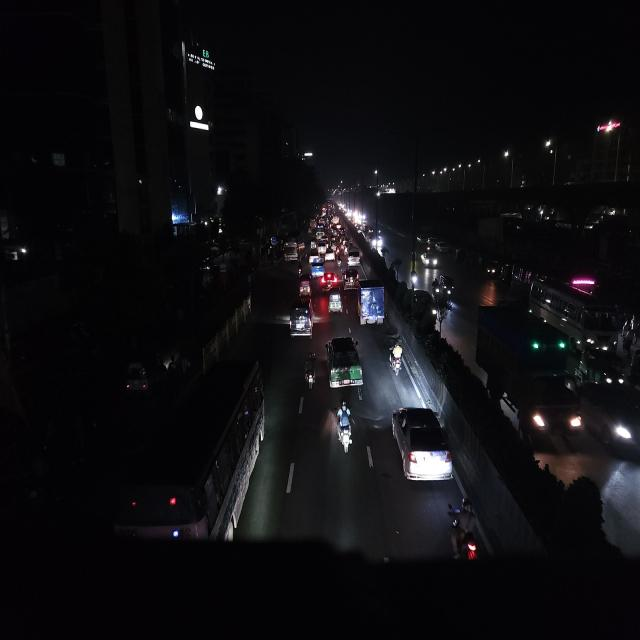bus: (102, 358, 267, 546), (524, 272, 632, 352), (280, 238, 303, 266)
car: (389, 401, 455, 493), (325, 333, 365, 394), (288, 295, 314, 344), (411, 288, 439, 332), (420, 245, 439, 270), (322, 271, 340, 290), (346, 247, 362, 268)
cng: (324, 332, 364, 395), (124, 351, 168, 404), (577, 345, 627, 390), (327, 284, 344, 319), (441, 272, 456, 305), (343, 264, 359, 290), (298, 272, 312, 299)
motorcycle: (444, 498, 482, 567), (333, 398, 357, 456), (387, 336, 405, 379), (302, 350, 318, 396), (409, 268, 418, 290)
pickup_van: (312, 258, 324, 277)
truck: (474, 301, 582, 448), (355, 277, 387, 332)
